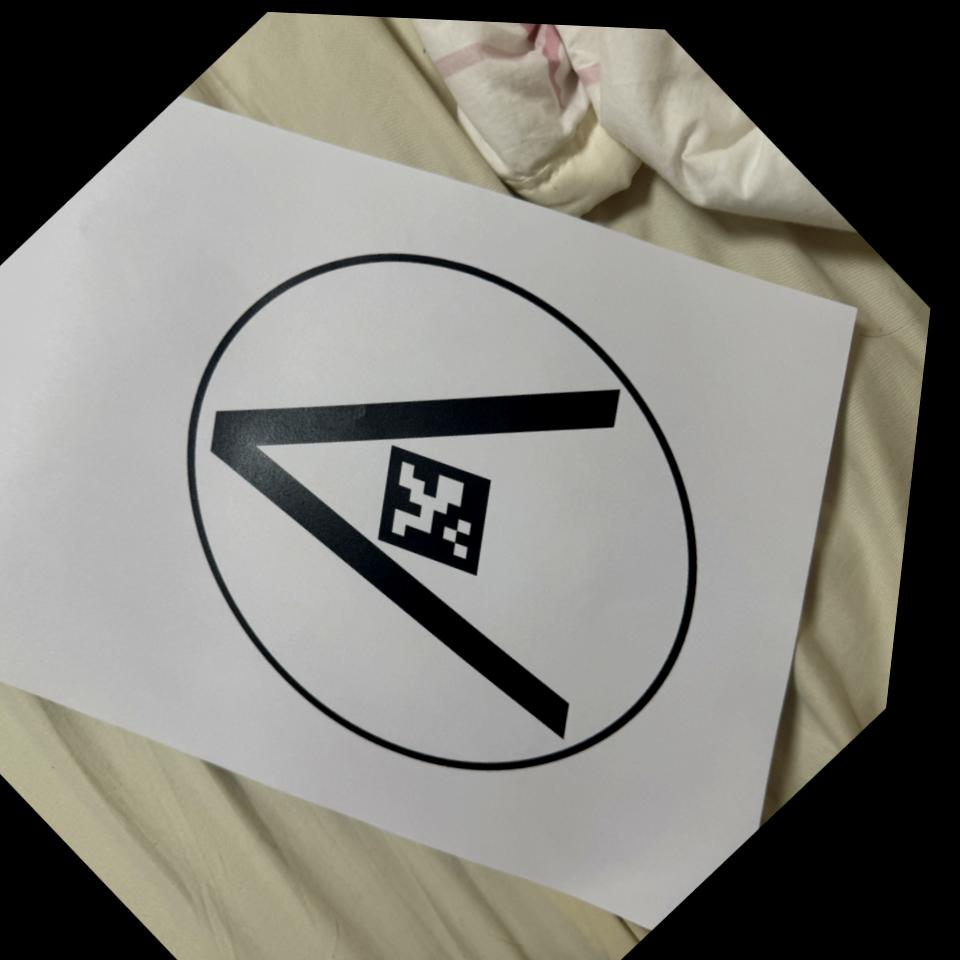vertiport: (8, 101, 891, 921)
